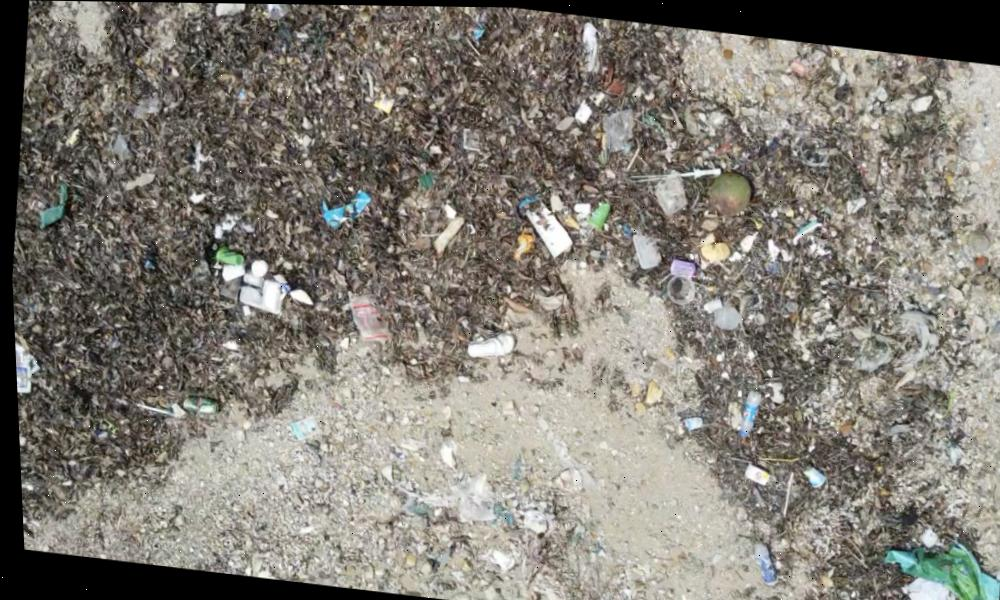carton: (512, 191, 582, 262), (738, 458, 767, 486), (662, 254, 694, 279)
plastic bag: (872, 541, 998, 600), (442, 460, 497, 527), (385, 479, 446, 511), (12, 335, 39, 396)
plastic bottle: (743, 535, 778, 588), (735, 386, 760, 439)
plastic container: (585, 98, 648, 174), (236, 265, 287, 322), (617, 224, 664, 273), (697, 294, 745, 335), (660, 274, 696, 306), (254, 3, 298, 27)
